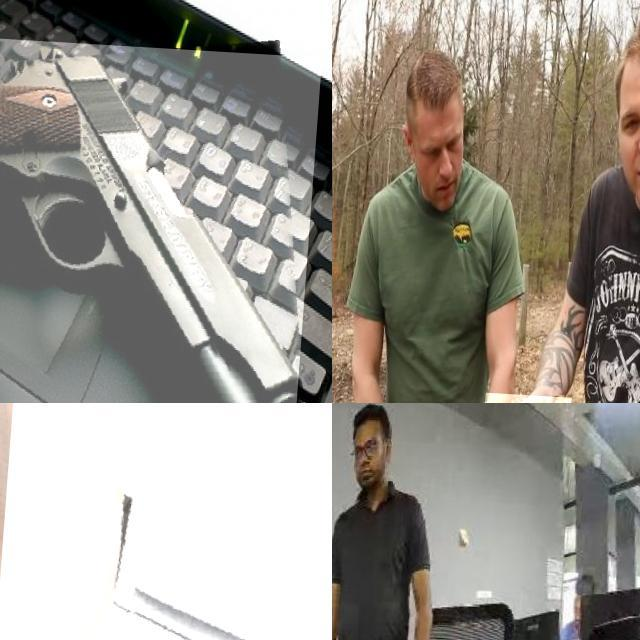-: (0, 403, 332, 640)
gun-knife-thesis - v11 Yolov5 augmented: (0, 28, 324, 403)
